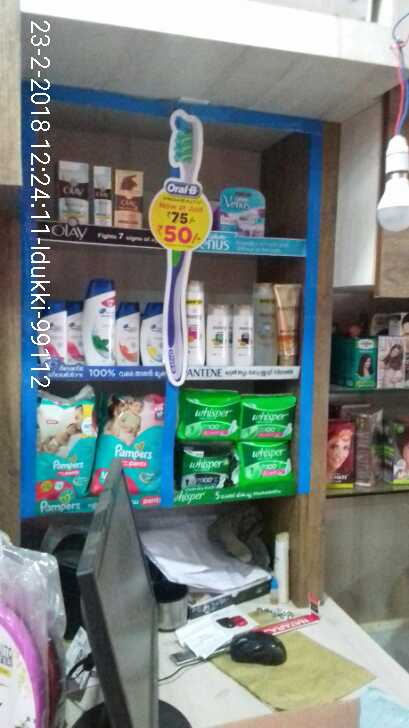venus: (219, 187, 268, 230)
